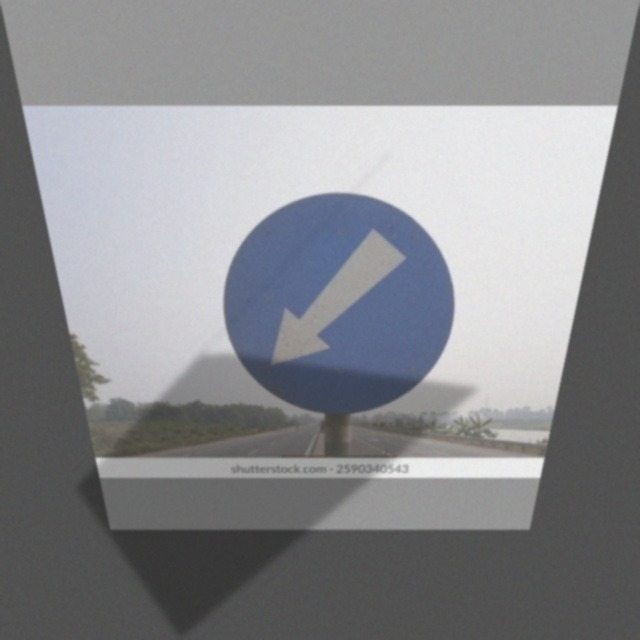Compulsory_Keep_Left: (216, 194, 465, 416)
